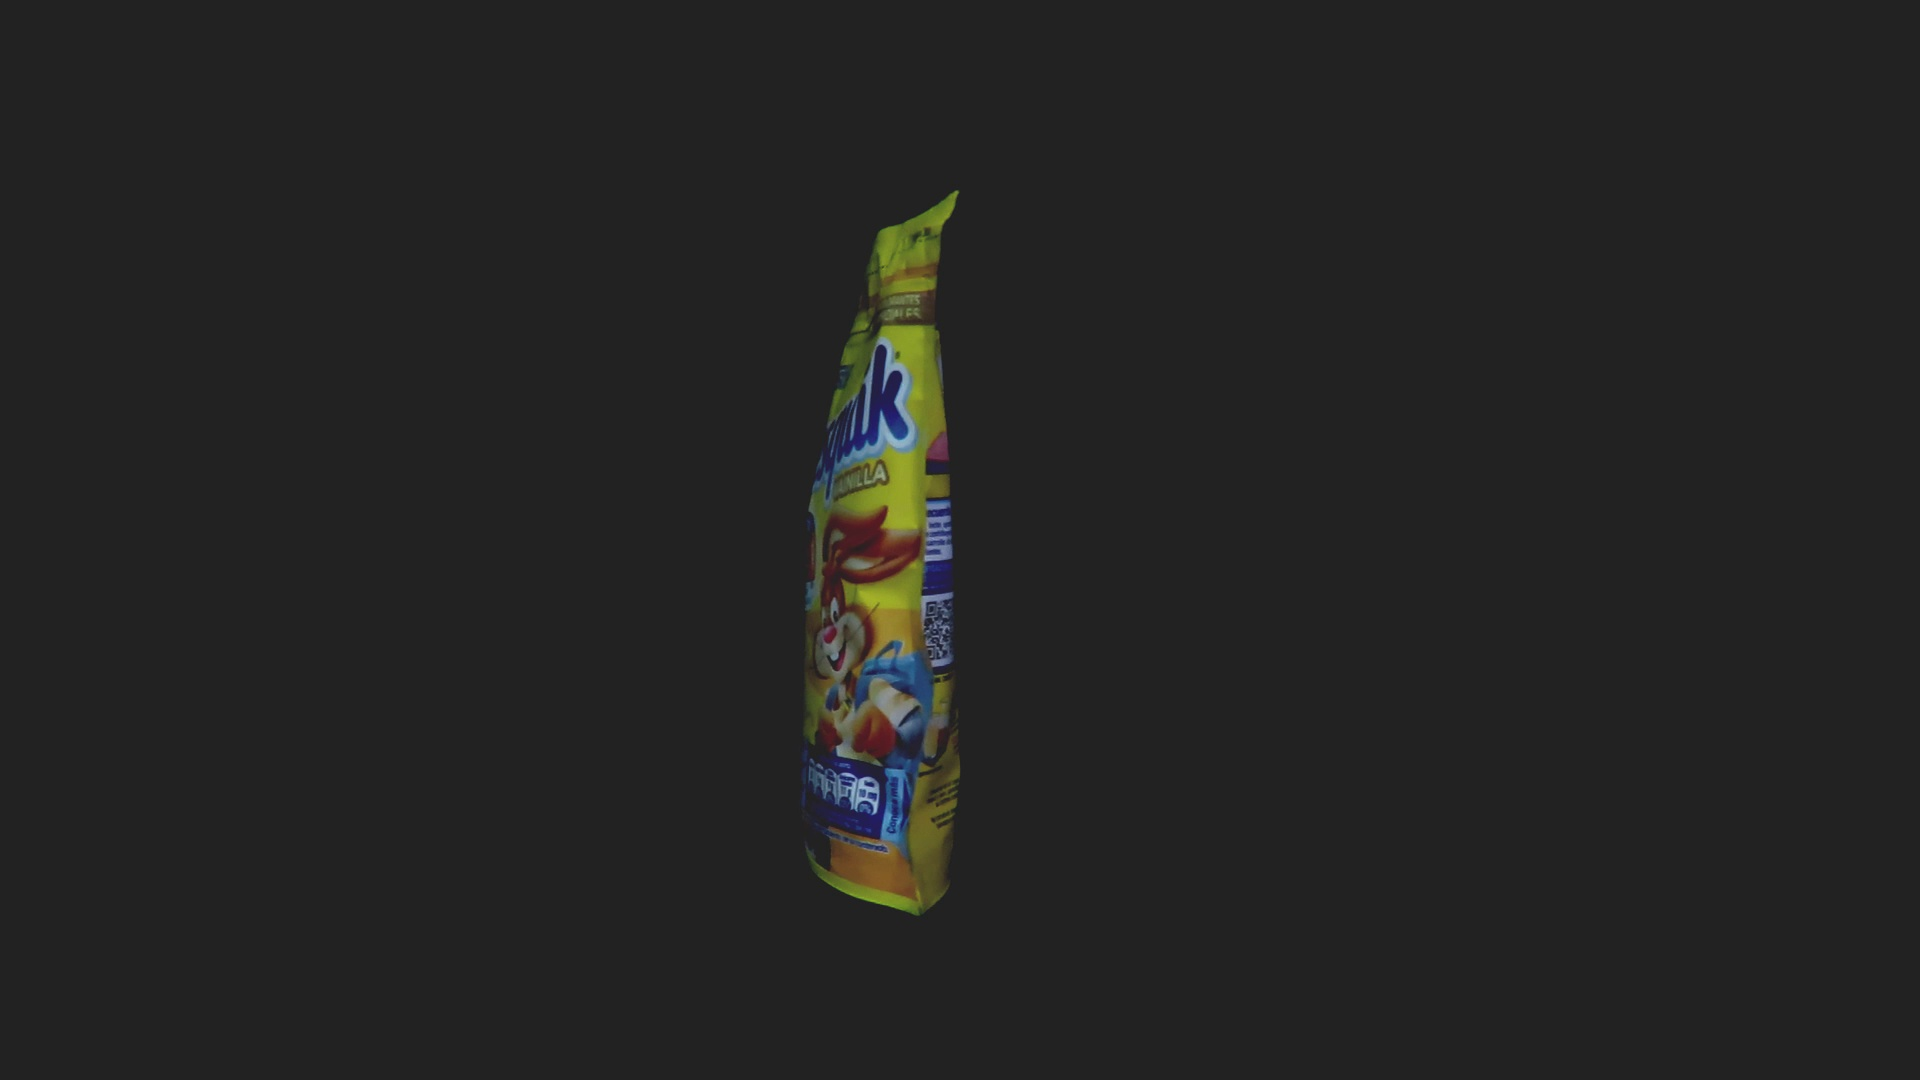COL0170306DYP20000: (799, 185, 967, 922)
